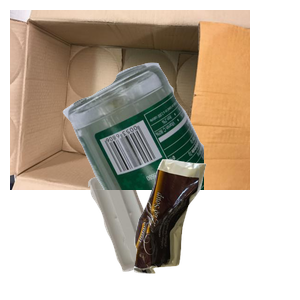cardboard: (10, 10, 250, 190)
glass: (60, 60, 300, 240)
plastic: (85, 163, 235, 300)
trash: (131, 157, 300, 300)
